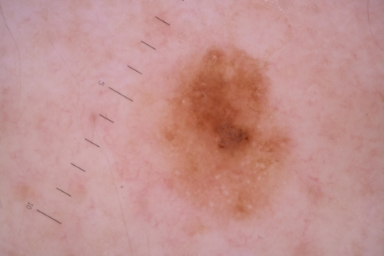nevus: (190, 48, 266, 154)
